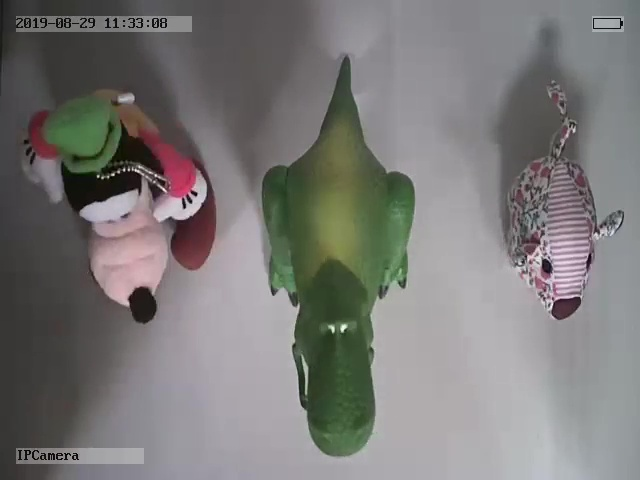goofy: (18, 86, 218, 327)
pig: (504, 78, 625, 321)
rex: (259, 51, 417, 460)
